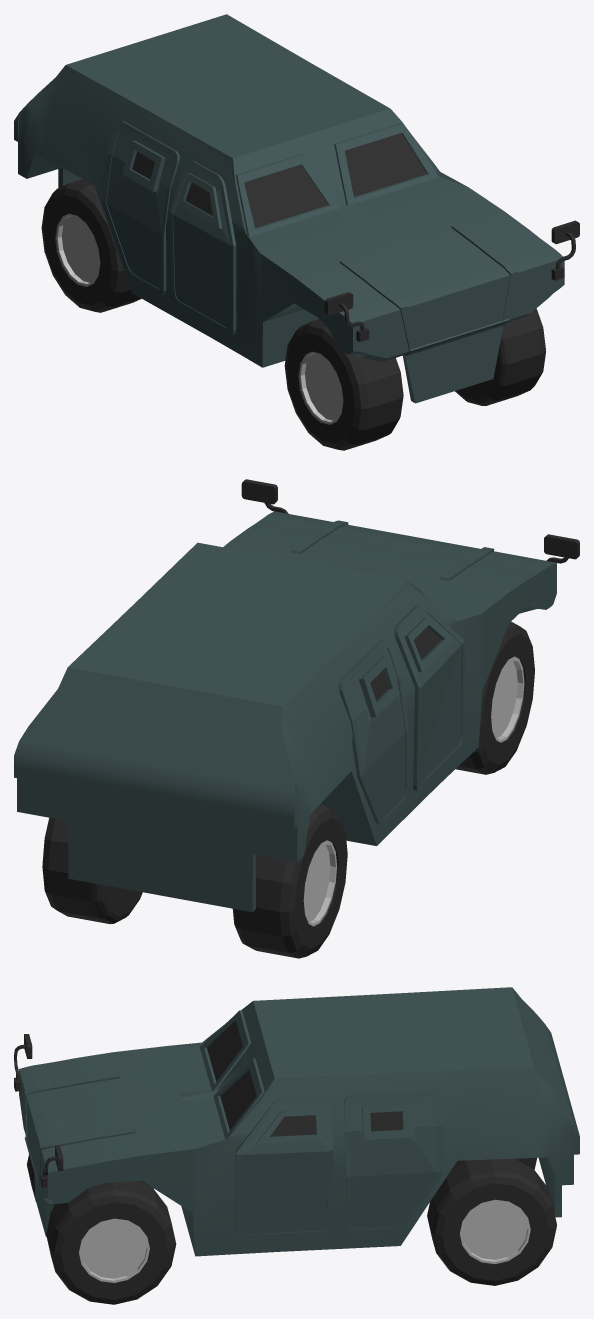
Rendered from CO_UGV.glb.
3 renders of one model, top to bottom at view 1: azimuth 30°, elevation 25°; view 2: azimuth 150°, elevation 25°; view 3: azimuth 270°, elevation 25°, orthographic. The views are drawn at different scales.
Parts seen in each view (by area): view 1: Cube, Cylinder, Plane.001, Plane.003, Cylinder.001, Plane.002; view 2: Cube, Cylinder.001, Plane.003, Plane.001, Cylinder, Plane.002; view 3: Cube, Cylinder.001, Cylinder, Plane.001, Plane.003, Plane.002.
Part boxes in pixels (x1,y1,x2,y2): Cube: [14, 14, 564, 403]; Cylinder: [284, 308, 545, 450]; Plane.001: [169, 129, 407, 335]; Plane.003: [101, 121, 179, 295]; Cylinder.001: [41, 179, 141, 312]; Plane.002: [324, 220, 579, 341]; Cube: [14, 511, 556, 912]; Cylinder.001: [42, 804, 347, 958]; Plane.003: [338, 639, 408, 825]; Plane.001: [394, 605, 464, 791]; Cylinder: [455, 621, 534, 774]; Plane.002: [241, 479, 579, 563]; Cube: [19, 987, 579, 1256]; Cylinder.001: [427, 1157, 556, 1285]; Cylinder: [27, 1154, 176, 1304]; Plane.001: [235, 1096, 332, 1240]; Plane.003: [344, 1091, 443, 1234]; Plane.002: [14, 1034, 63, 1187].
Size of the model in its own units: 0.3261 by 0.2324 by 0.557.
